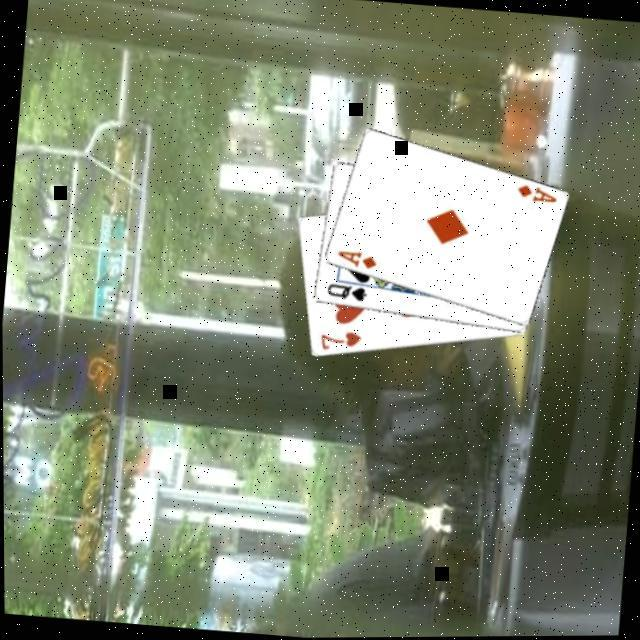7H: (314, 328, 362, 358)
AD: (510, 183, 558, 210), (331, 248, 376, 274)
QS: (320, 282, 366, 307)
